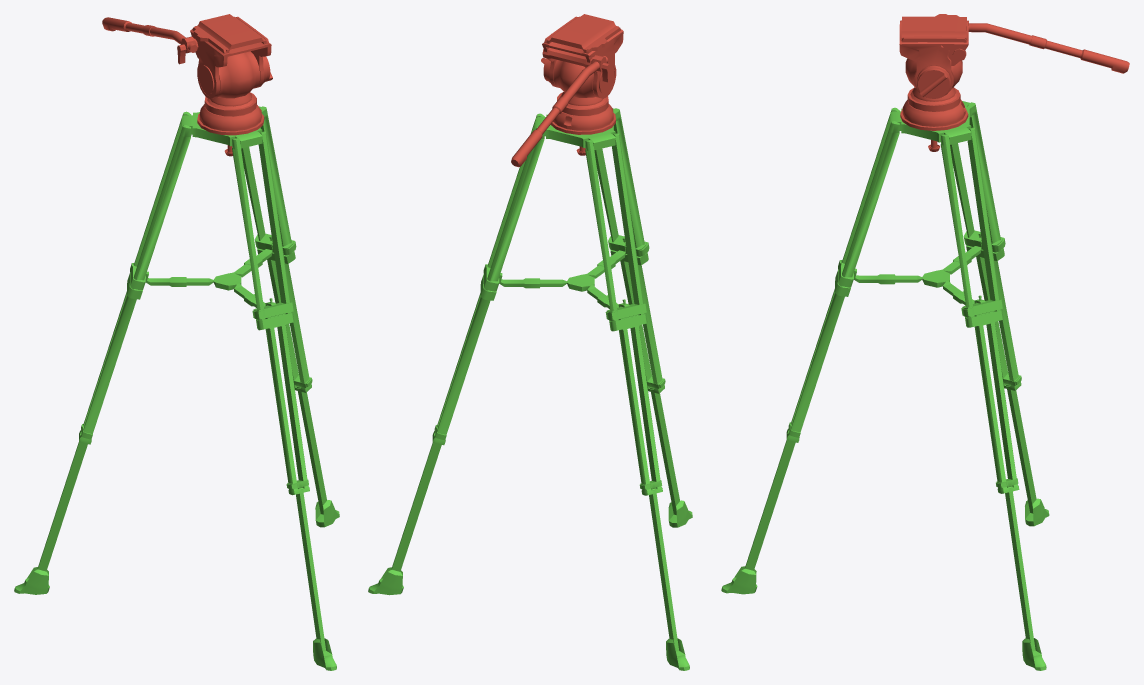
File: Modern High End Tripod Extended.fbx
3 views of the same model, side by side, from view 1: azimuth 30°, elevation 25°; view 2: azimuth 150°, elevation 25°; view 3: azimuth 270°, elevation 25° (orthographic).
Visible parts, largest first — view 1: Cylinder.002; view 2: Cylinder.002; view 3: Cylinder.002.
Part boxes in pixels (<box>): Cylinder.002: <box>14,14,339,670</box>; Cylinder.002: <box>368,14,692,670</box>; Cylinder.002: <box>721,14,1129,670</box>.
Bounding box in the file's own units: 118 × 197 × 128.
